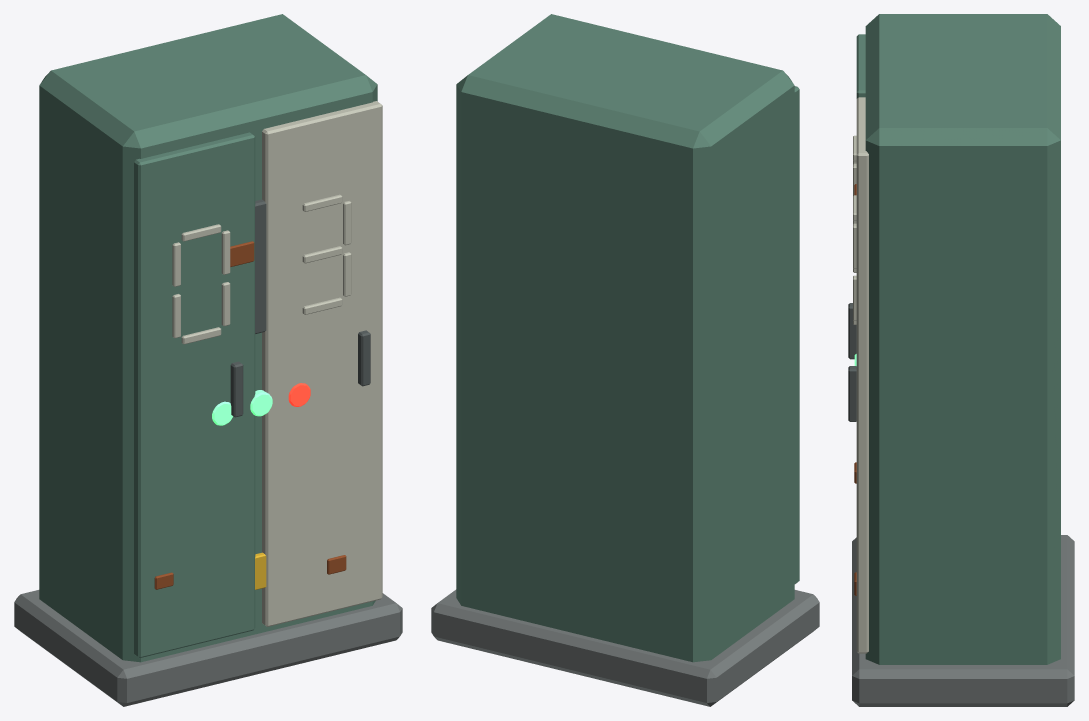
Rendered from runtime.glb.
3 renders of one model, left to right at view 1: azimuth 30°, elevation 25°; view 2: azimuth 150°, elevation 25°; view 3: azimuth 270°, elevation 25°, orthographic.
Parts seen in each view (by area): view 1: reactor-control-box-v03_nocol; view 2: reactor-control-box-v03_nocol; view 3: reactor-control-box-v03_nocol.
Part boxes in pixels (x1=…): reactor-control-box-v03_nocol: x1=14, y1=14, x2=402, y2=706; reactor-control-box-v03_nocol: x1=431, y1=14, x2=819, y2=706; reactor-control-box-v03_nocol: x1=848, y1=14, x2=1074, y2=706.
Bounding box in the file's own units: 1.6 × 3.02 × 1.09.
